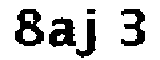3: (113, 5, 149, 52)
8: (11, 5, 46, 50)
a: (48, 15, 79, 49)
j: (78, 4, 104, 60)
